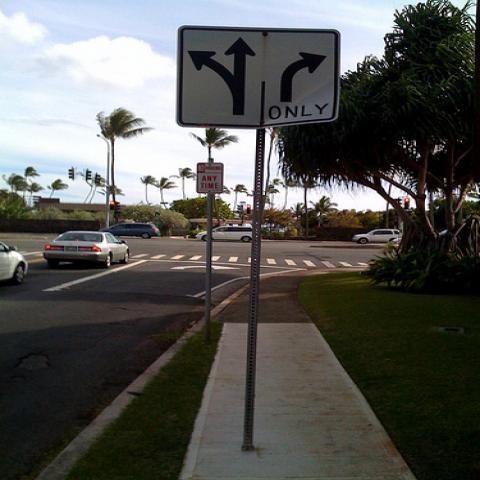car: (42, 231, 133, 269), (0, 240, 31, 286), (100, 223, 160, 240), (196, 226, 252, 243), (352, 229, 402, 244), (389, 236, 401, 244)
